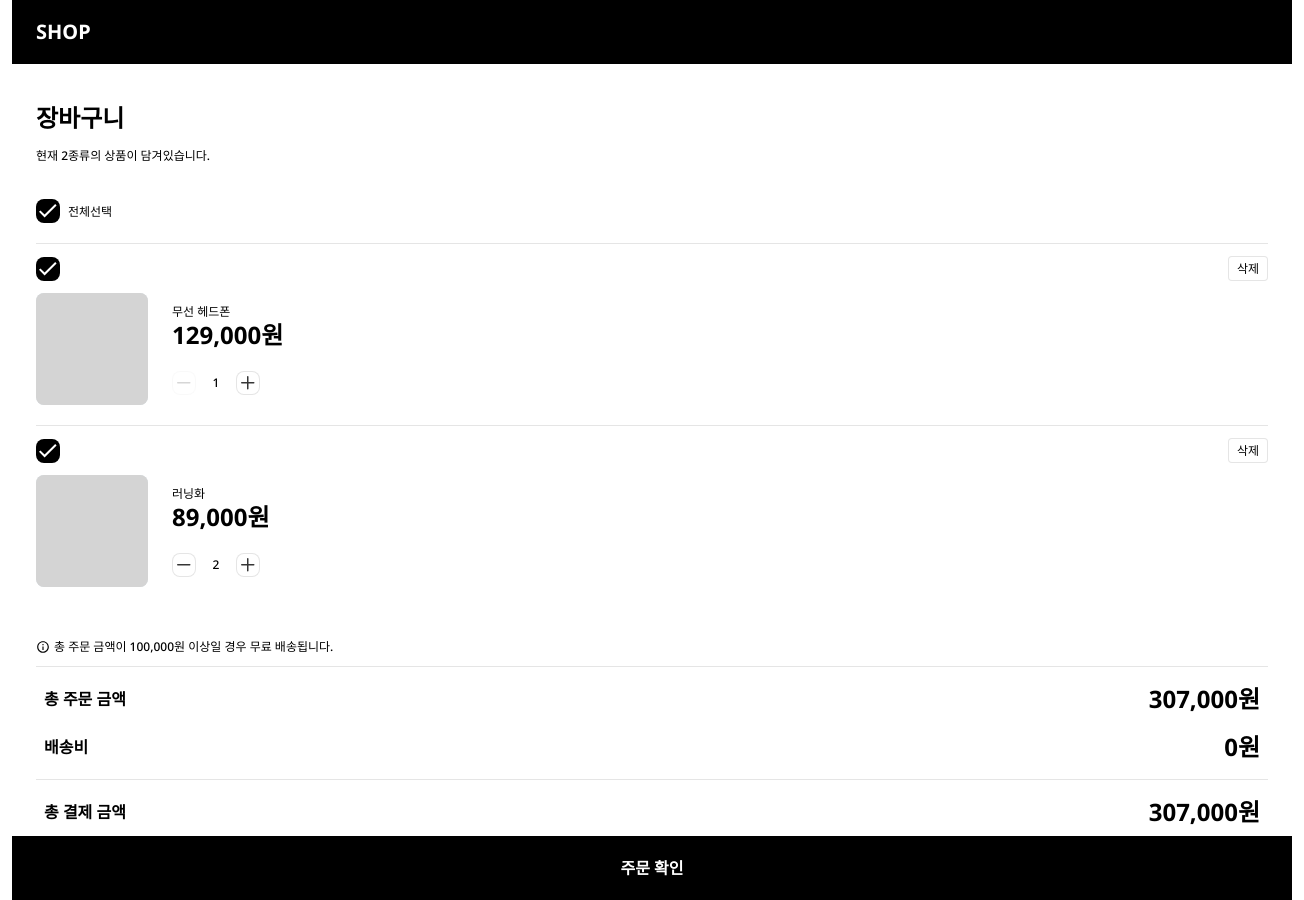
Test: 진입 / 선택 상태 › 전체 선택을 토글하면 선택/해제가 전환된다
Click the checkbox labelled "전체선택" at (48, 211), box [36,199,60,223]
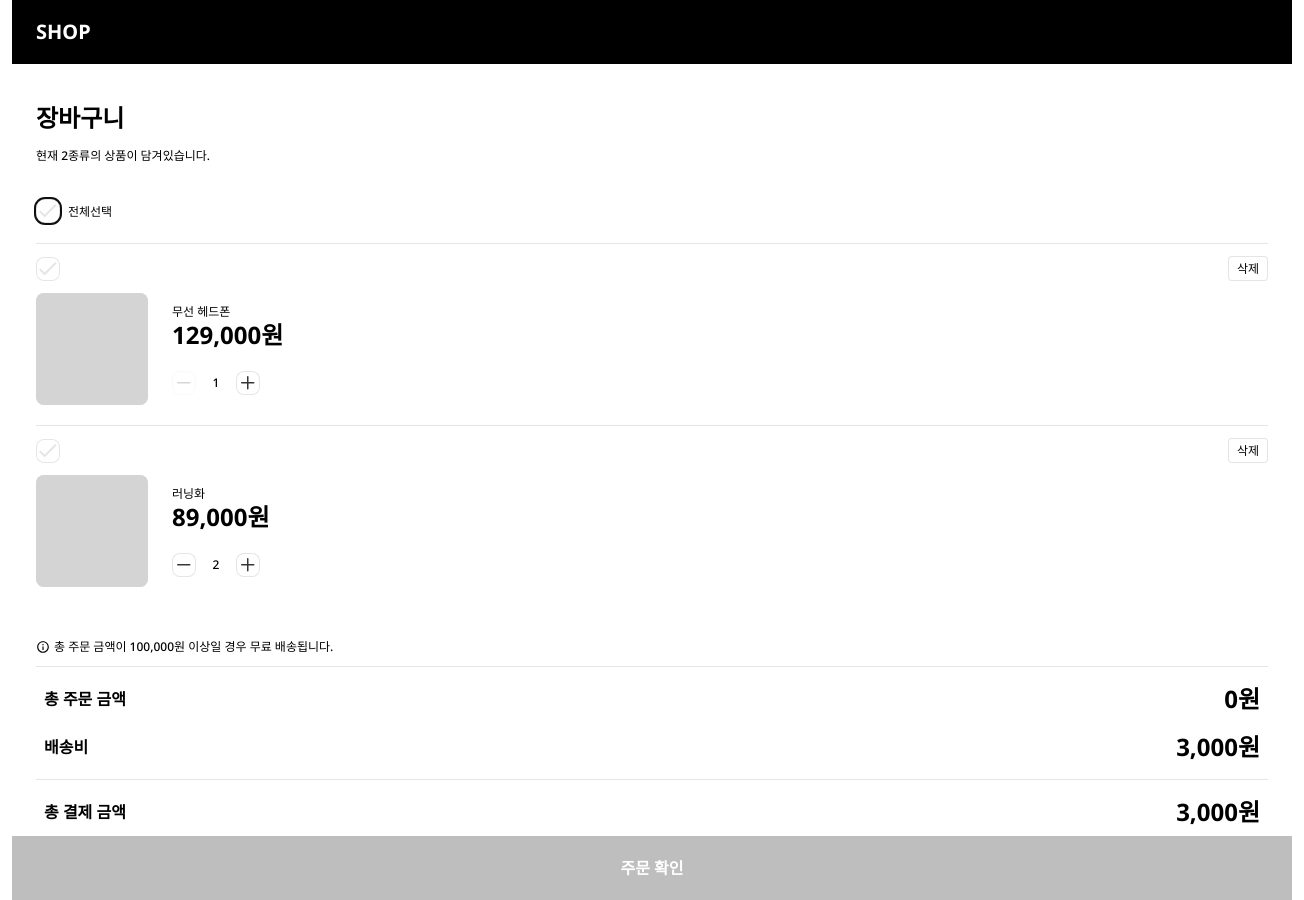
Expected: the checkbox labelled "전체선택" is not checked
Expected: the 2nd checkbox is not checked, [36,256,60,280]
Click the checkbox labelled "전체선택" at (48, 211), box [36,199,60,223]
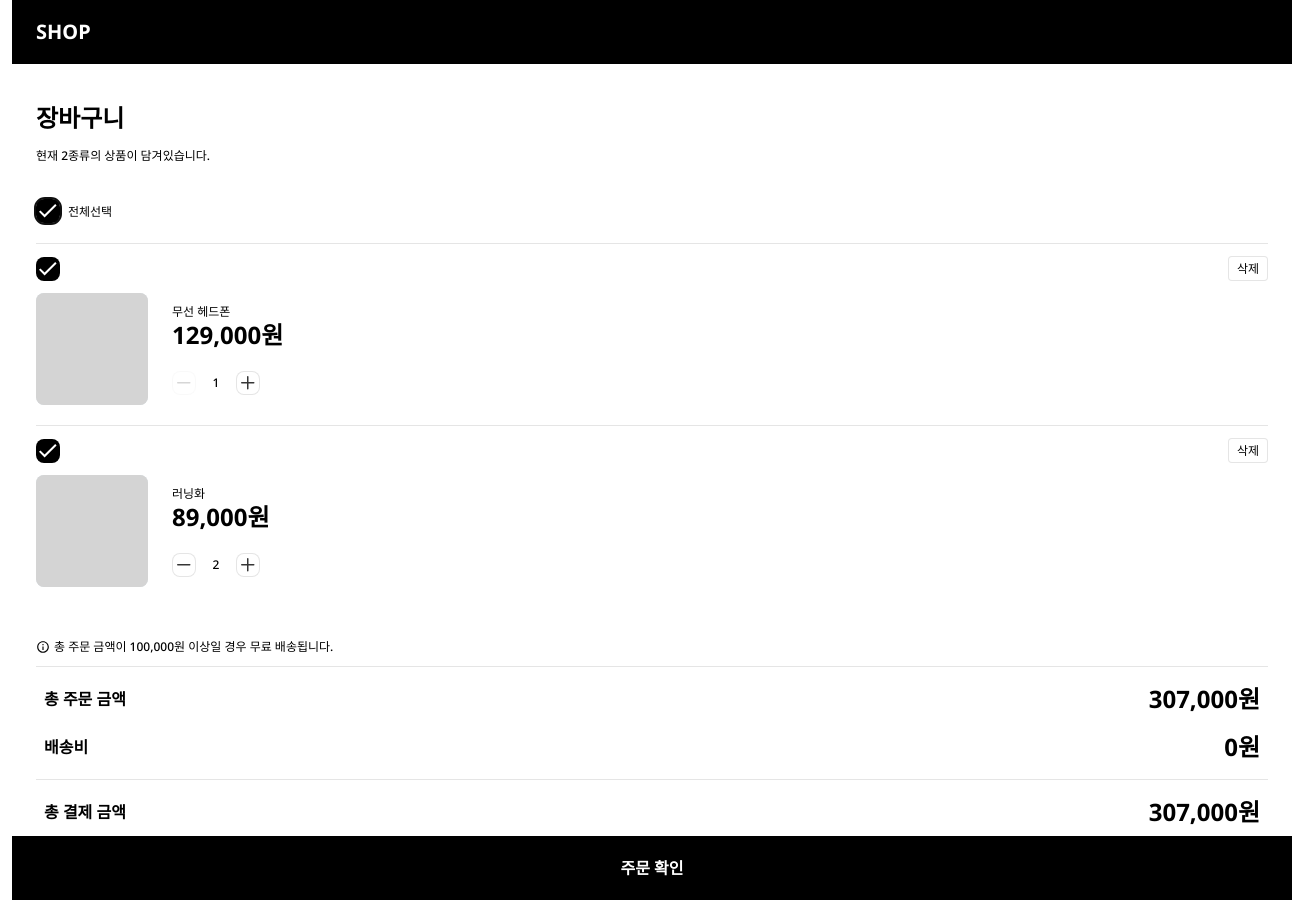
Expected: the checkbox labelled "전체선택" is checked, [36,199,60,223]
Expected: the 2nd checkbox is checked, [36,256,60,280]
